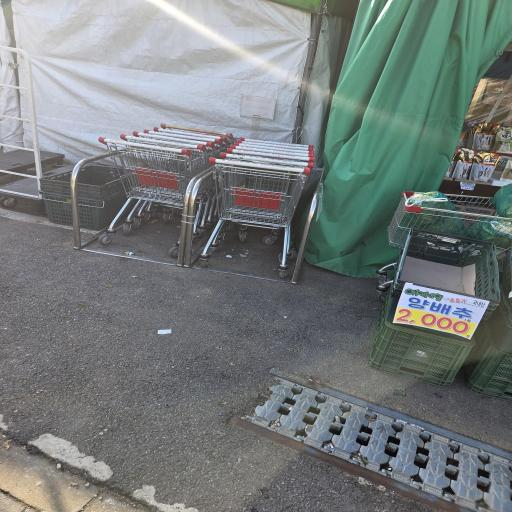combined_cart: (73, 124, 242, 270), (189, 137, 326, 287)
